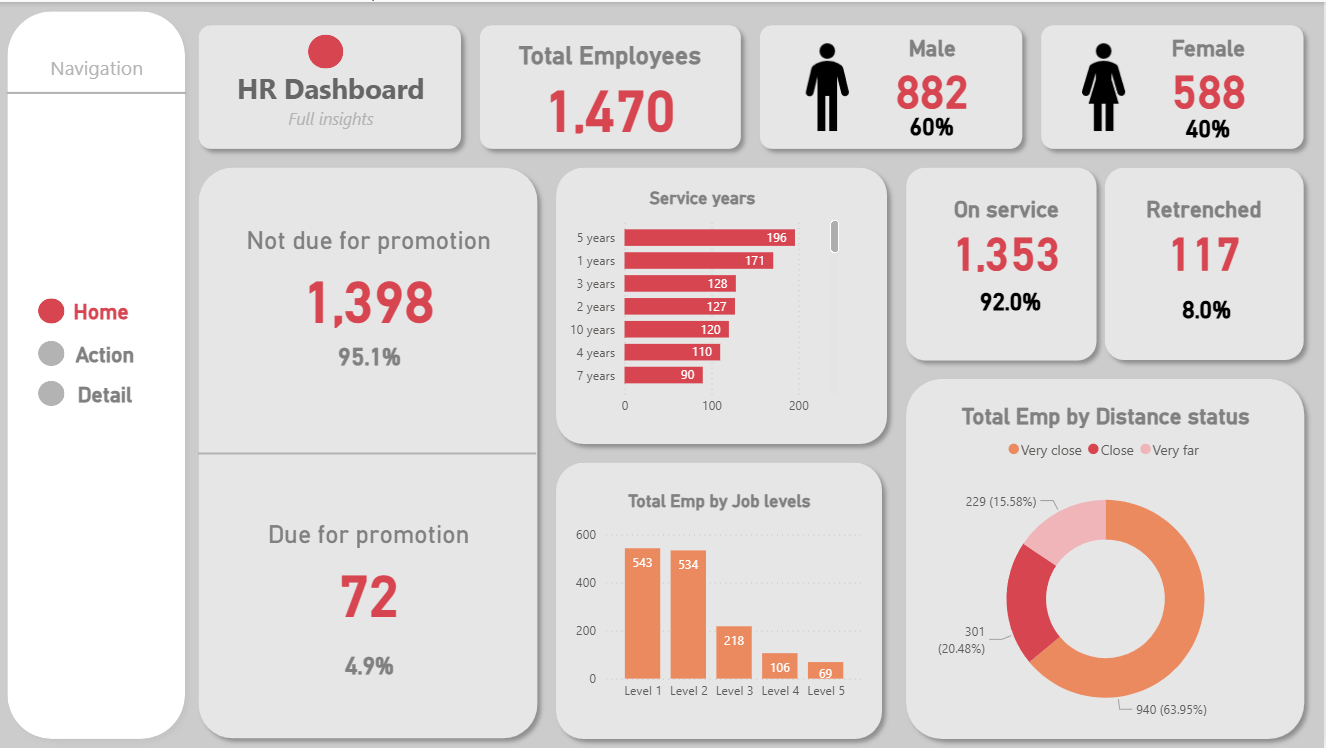

Layout of this report page (visuals, bound fields, positions):
{"tool":"powerbi","page":{"name":"Page 3","canvas":[1280,720],"ordinal":2},"visuals":[{"type":"shape","box":[0,0,184.6,720.2],"z":0},{"type":"shape","box":[726.3,12.2,271.5,138.2],"z":1000},{"type":"shape","box":[456.2,13.8,270,137.5],"z":2000},{"type":"shape","box":[997.5,13.8,271.2,137.5],"z":3000},{"type":"shape","box":[185,13.8,271.2,137.5],"z":4000},{"type":"textbox","box":[211.2,60,220,45],"z":5000},{"type":"textbox","box":[211.5,100.3,220.1,36.7],"z":6000},{"type":"shape","box":[303.8,32,33.8,32.5],"z":7000},{"type":"card","title":"Total Employees","fields":{"Values":["Dax functions.Total Emp"]},"box":[486.2,22.5,208.8,118.8],"z":8000},{"type":"card","title":"Male","fields":{"Values":["Dax functions.Male"]},"box":[801.2,12.5,201.2,106.2],"z":9000},{"type":"card","fields":{"Values":["Dax functions.% male"]},"box":[867.5,85,67.5,66.2],"z":10000},{"type":"image","box":[1017.5,31.2,100,101.2],"z":11000},{"type":"image","box":[750,31.2,100,101.2],"z":12000},{"type":"card","title":"Female","fields":{"Values":["Dax functions.Female"]},"box":[1067.5,12.5,201.2,106.2],"z":13000},{"type":"card","fields":{"Values":["Dax functions.% female"]},"box":[1133.8,86.2,67.5,66.2],"z":14000},{"type":"shape","box":[184.6,152.8,354.6,567.4],"z":15000},{"type":"columnChart","fields":{"Category":["HR Analytics Data.Department"],"Y":["Dax functions.Retrenched","Dax functions.Due for promation"]},"box":[198.1,189.5,328.9,494],"z":16000},{"type":"shape","box":[539.2,152.8,270.2,193.2],"z":17000},{"type":"columnChart","fields":{"Y":["Dax functions.Total Emp"],"Category":["HR Analytics Data.Job status"]},"box":[562.5,170,225,159],"z":18000},{"type":"shape","box":[809.5,152.8,240.9,193.2],"z":19000},{"type":"shape","box":[1050.4,150.4,218.9,193.2],"z":20000},{"type":"pieChart","fields":{"Y":["Dax functions.Total Emp"],"Category":["HR Analytics Data.OverTime"]},"box":[833.9,170,194.4,159],"z":21000},{"type":"card","title":"High rated","fields":{"Values":["Dax functions.% High rating"]},"box":[1058.9,150.4,200.5,106.4],"z":22000},{"type":"card","title":"Low rated","fields":{"Values":["Dax functions.% Low rating"]},"box":[1058.9,237.2,200.5,108.8],"z":23000},{"type":"shape","box":[1060.1,239.7,200.5,13.5],"z":24000},{"type":"tableEx","fields":{"Values":["HR Analytics Data.JobRole","Dax functions.Total Emp","Dax functions.Retrenched","Dax functions.Due for promation"]},"box":[539.2,360.7,732.4,336.3],"z":25000},{"type":"actionButton","box":[52.6,283.7,100.3,41.6],"z":26000},{"type":"actionButton","box":[52.6,320.4,100.3,37.9],"z":27000},{"type":"actionButton","box":[52.6,360.7,100.3,35.5],"z":28000},{"type":"shape","box":[39.1,292.2,25.7,24.5],"z":29000},{"type":"shape","box":[39.1,326.5,25.7,24.5],"z":30000},{"type":"shape","box":[39.1,365.6,25.7,24.5],"z":31000},{"type":"shape","box":[8.6,66,165.1,42.8],"z":32000},{"type":"textbox","box":[8.6,45.2,173.6,39.1],"z":33000}]}

Visuals, with their boxes in screenshot pixels (x1, y1, x2, y2), scaled from the page's 1280x720 canvas onto the 1326x748 screenshot:
shape: l=0, t=0, r=191, b=747
shape: l=752, t=13, r=1034, b=156
shape: l=473, t=14, r=752, b=157
shape: l=1033, t=14, r=1314, b=157
shape: l=192, t=14, r=473, b=157
textbox: l=219, t=62, r=447, b=109
textbox: l=219, t=104, r=447, b=142
shape: l=315, t=33, r=350, b=67
"Total Employees" card: l=504, t=23, r=720, b=147
"Male" card: l=830, t=13, r=1038, b=123
card - Dax functions.% male: l=899, t=88, r=969, b=157
image: l=1054, t=32, r=1158, b=138
image: l=777, t=32, r=881, b=138
"Female" card: l=1106, t=13, r=1314, b=123
card - Dax functions.% female: l=1175, t=90, r=1244, b=158
shape: l=191, t=159, r=559, b=747
columnChart - HR Analytics Data.Department x Dax functions.Retrenched: l=205, t=197, r=546, b=710
shape: l=559, t=159, r=838, b=359
columnChart - Dax functions.Total Emp x HR Analytics Data.Job status: l=583, t=177, r=816, b=342
shape: l=839, t=159, r=1088, b=359
shape: l=1088, t=156, r=1315, b=357
pieChart - Dax functions.Total Emp x HR Analytics Data.OverTime: l=864, t=177, r=1065, b=342
"High rated" card: l=1097, t=156, r=1305, b=267
"Low rated" card: l=1097, t=246, r=1305, b=359
shape: l=1098, t=249, r=1306, b=263
tableEx - HR Analytics Data.JobRole x Dax functions.Total Emp: l=559, t=375, r=1317, b=724
actionButton: l=54, t=295, r=158, b=338
actionButton: l=54, t=333, r=158, b=372
actionButton: l=54, t=375, r=158, b=412
shape: l=41, t=304, r=67, b=329
shape: l=41, t=339, r=67, b=365
shape: l=41, t=380, r=67, b=405
shape: l=9, t=69, r=180, b=113
textbox: l=9, t=47, r=189, b=88
